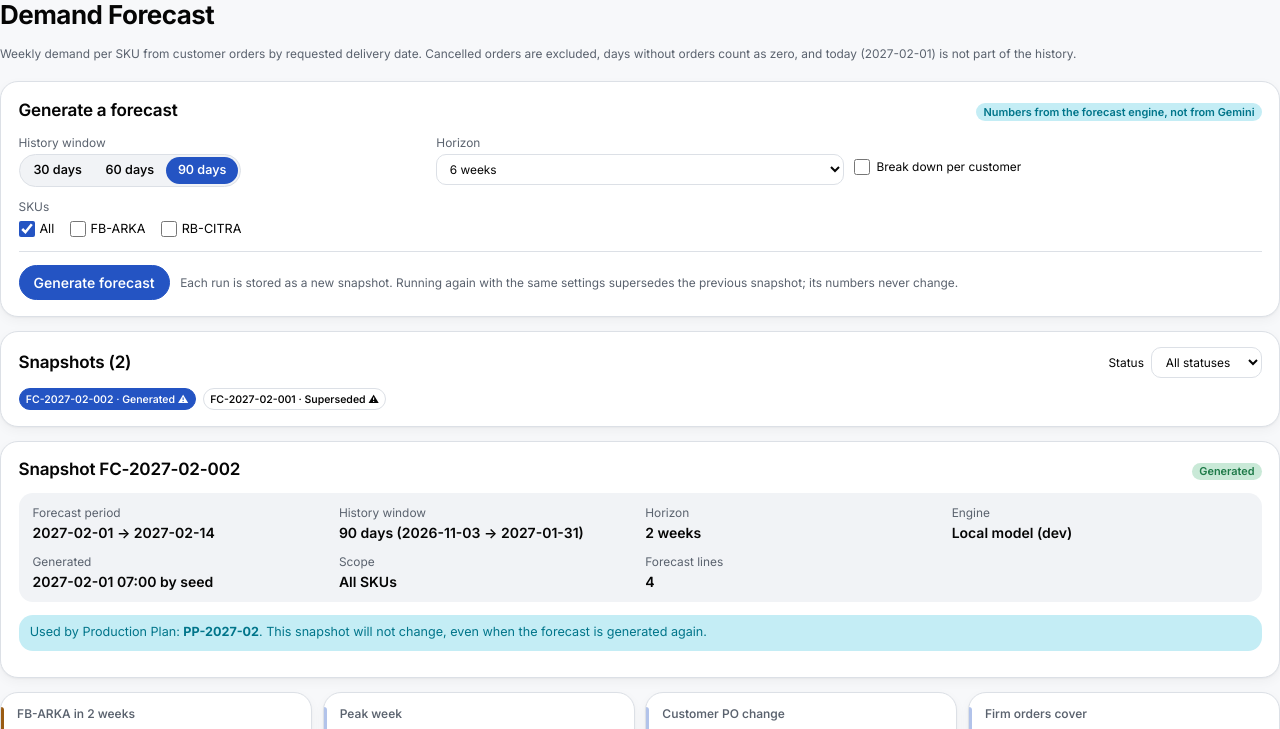
Test case: generates with the chosen window, horizon, SKU filter and per-customer flag
Expected: the heading "Snapshot FC-2027-02-002" is shown, [18,457,240,483]
Click the button "30 days": click(58, 171) [22,158,94,184]
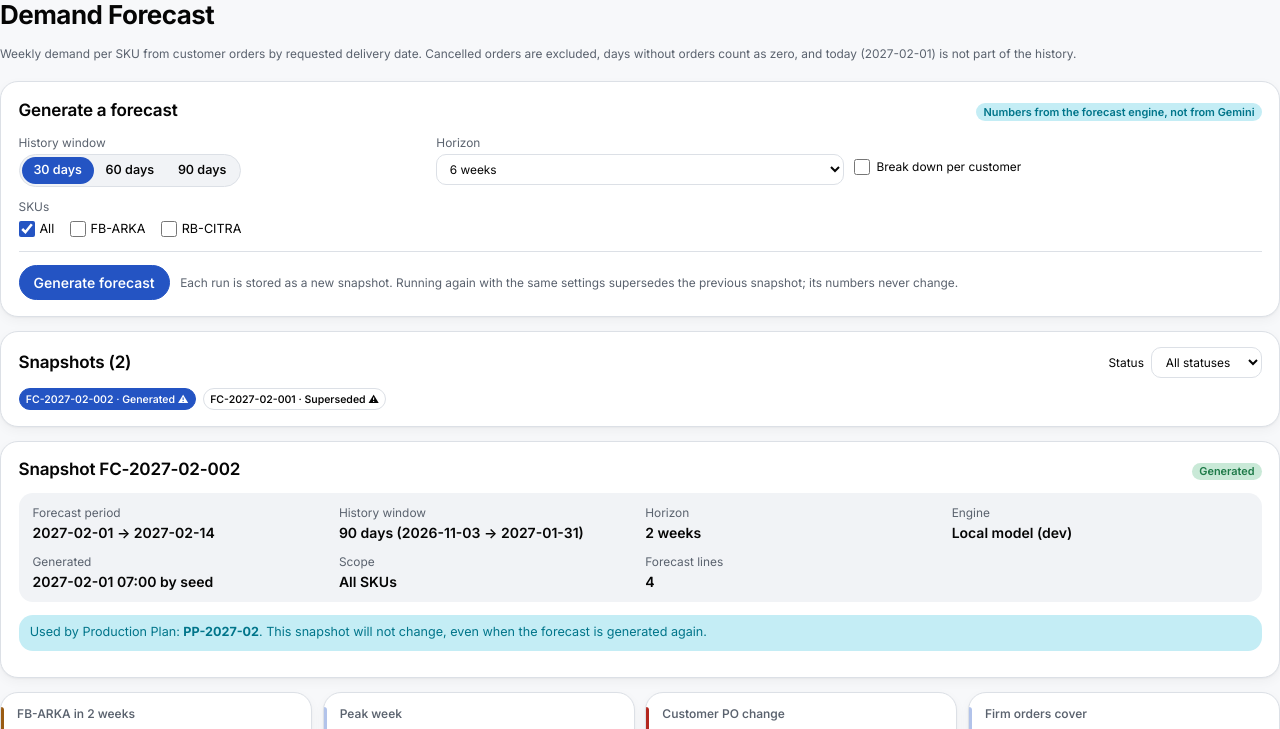
Select "4 weeks" in the dropdown labelled "Horizon": (640, 170) [436,154,844,185]
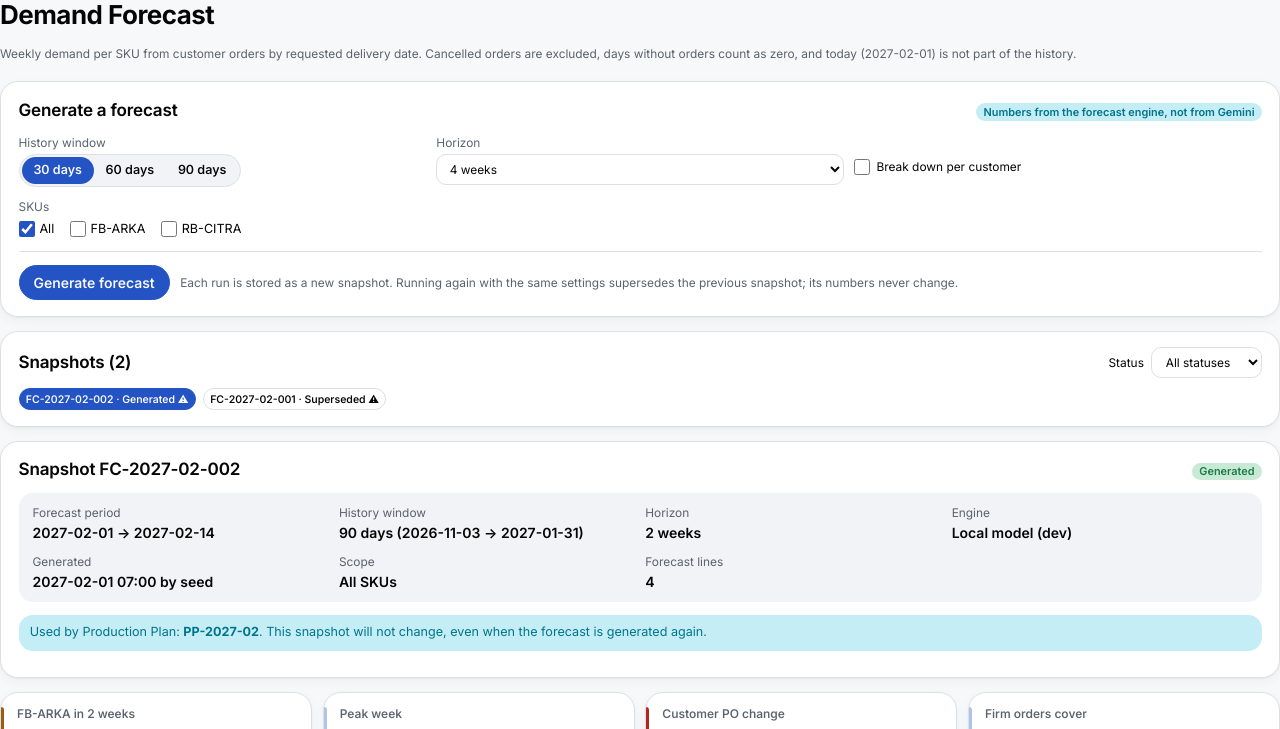
Click the checkbox named "Only FB-ARKA": click(78, 229) [70,221,86,237]
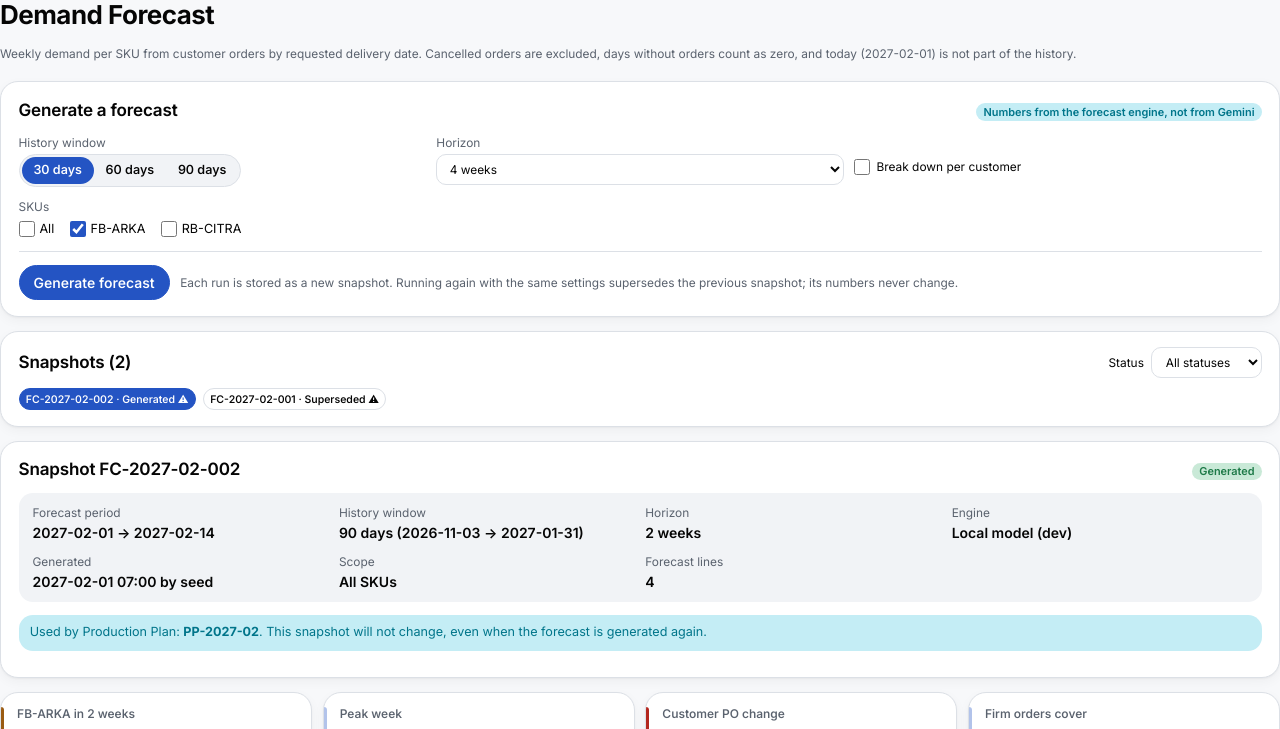
Click the checkbox labelled "Break down per customer": click(862, 167) [854,159,870,175]
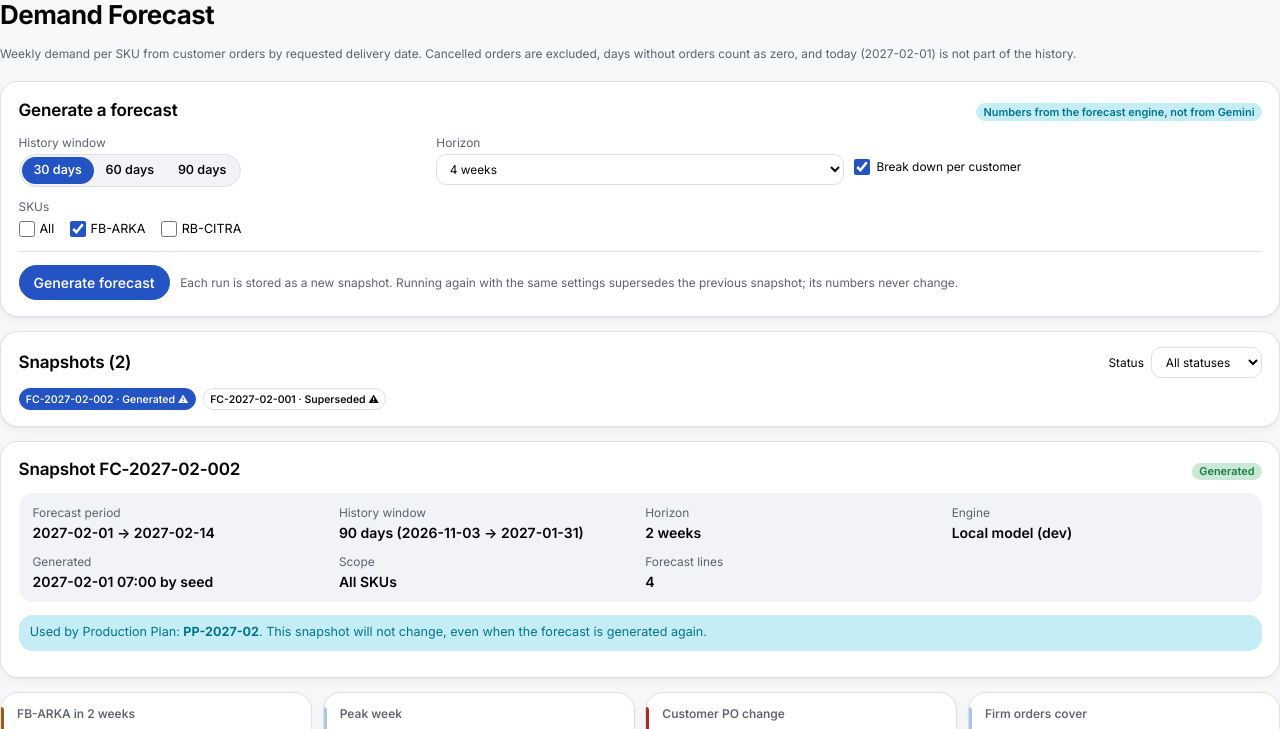
Click the button "Generate forecast": click(94, 283) [18,265,170,300]
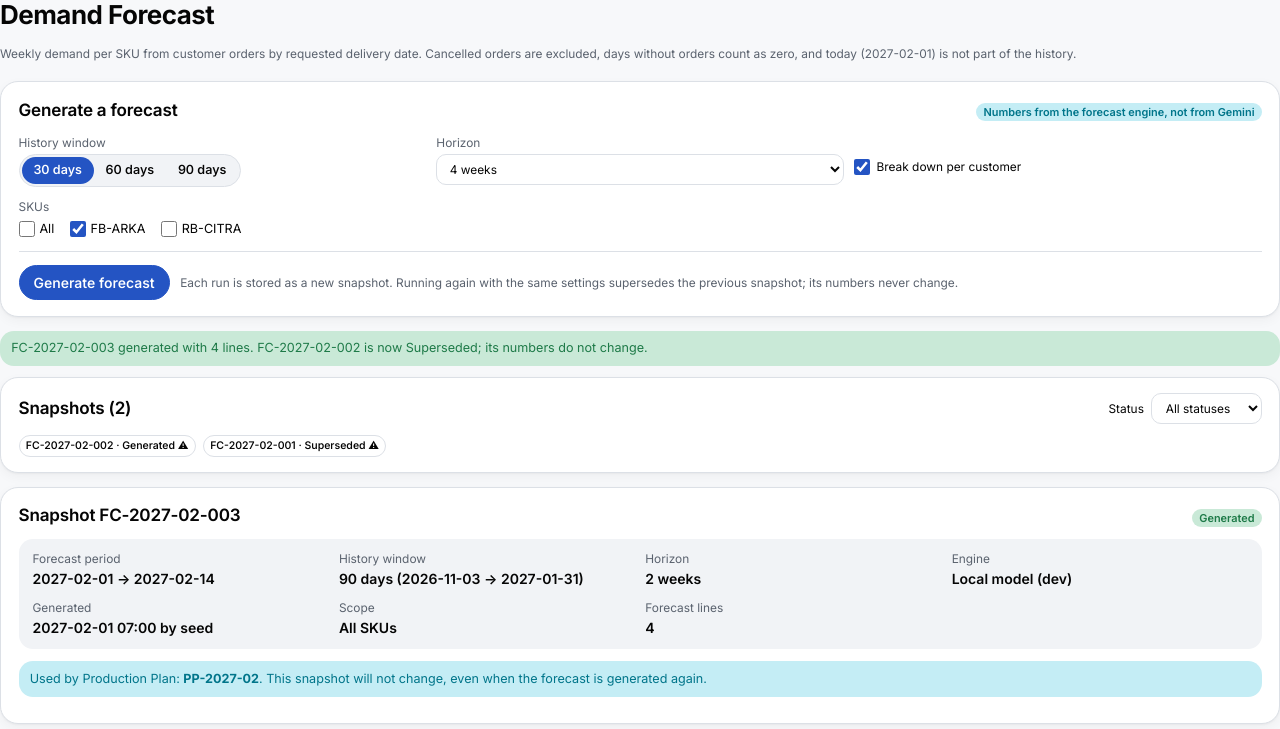
Result: the text "FC-2027-02-003 generated with 4 lines. FC-2027-02-002 is now Superseded" is shown at [11,340,648,355]
Result: the heading "Snapshot FC-2027-02-003" is shown at [18,503,240,529]
